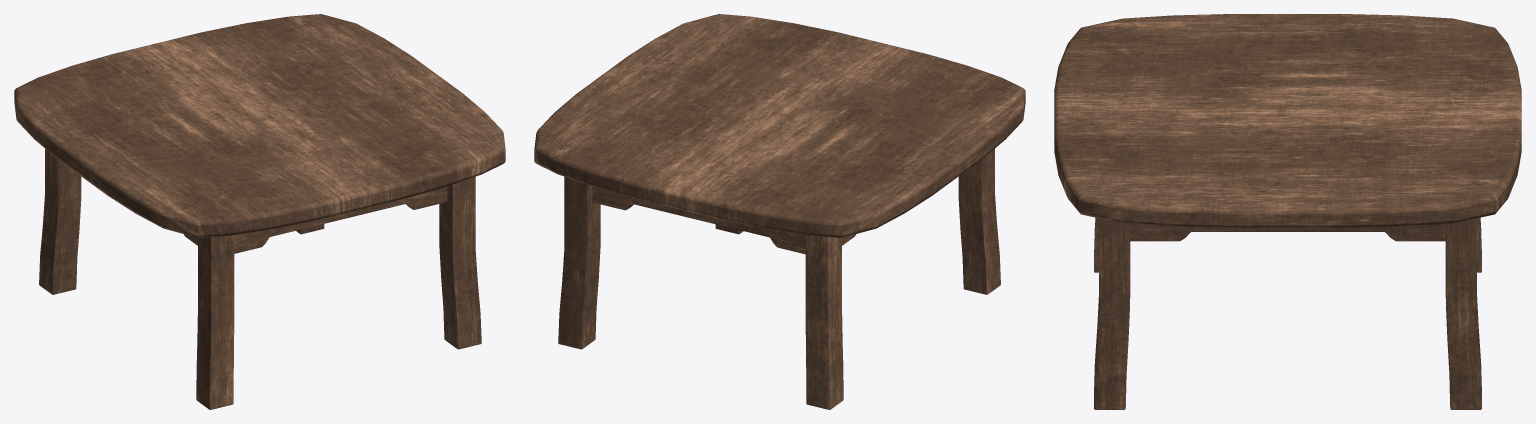
Rendered from smalltabler.fbx.
3 renders of one model, left to right at view 1: azimuth 30°, elevation 25°; view 2: azimuth 150°, elevation 25°; view 3: azimuth 270°, elevation 25°, orthographic. The views are drawn at different scales.
Visible parts, largest first — view 1: g.008, g.003, g.006, g.004, g.001; view 2: g.008, g.004, g.005, g.003, g; view 3: g.008, g.005, g.006, g.007.
Boxes of the visible parts, x1,y1,x2,y2 form: g.008: (14,14,505,237); g.003: (196,235,234,409); g.006: (439,177,481,349); g.004: (39,149,81,294); g.001: (234,186,447,253); g.008: (534,14,1025,237); g.004: (805,235,843,409); g.005: (558,177,600,349); g.003: (958,149,1000,294); g: (592,186,805,254); g.008: (1054,14,1521,228); g.005: (1445,218,1481,409); g.006: (1094,218,1130,409); g.007: (1130,224,1445,241).
Bounding box in the file's own units: 200 × 106 × 200.
